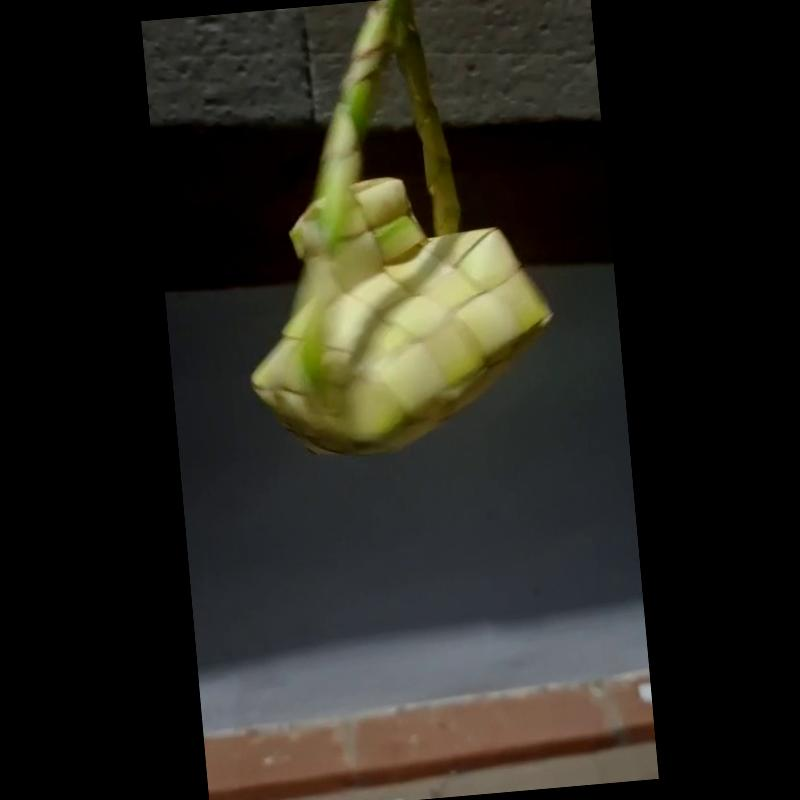Tipat Gong: (249, 0, 553, 462)
